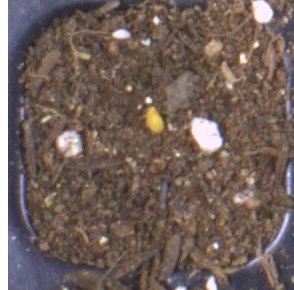chilli seed: (144, 106, 165, 134)
